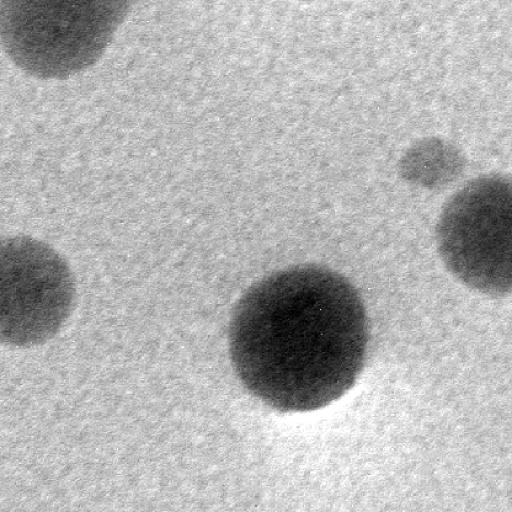Nanoparticles: (225, 262, 368, 413), (0, 0, 131, 81), (434, 172, 512, 301), (0, 232, 76, 340), (402, 136, 462, 188)
